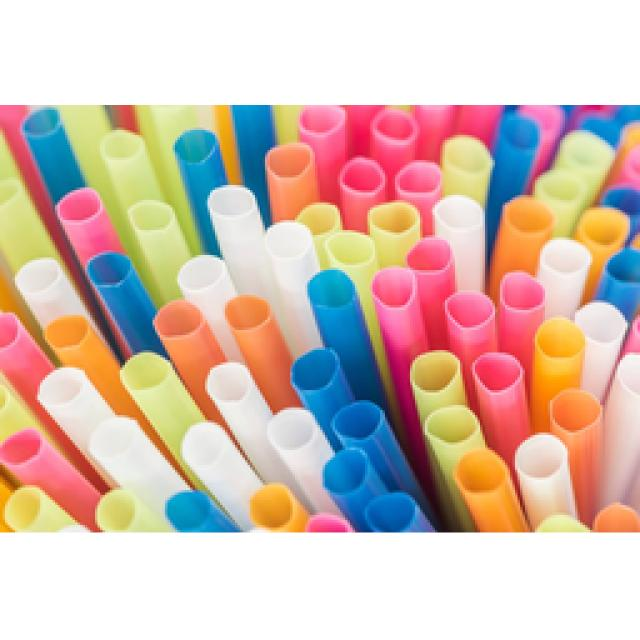plastic: (0, 102, 638, 530)
